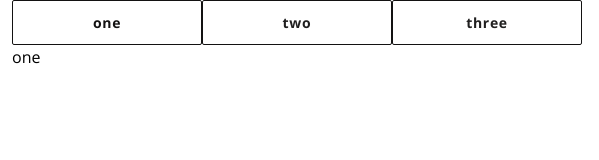
Test: Component: TabContainer › should render and change tabs correctly
This screenshot has width=599, height=160.
expect the number of tabs is 1: met, box left=12, top=46, right=40, bottom=68
Click the link "two".
click(297, 22)  # box left=202, top=0, right=392, bottom=45
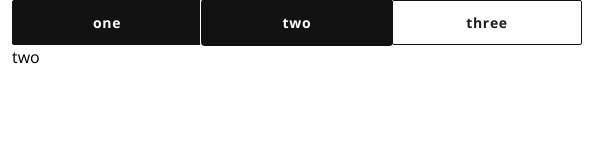
expect the tab "two" is shown: met, box left=12, top=46, right=40, bottom=68
